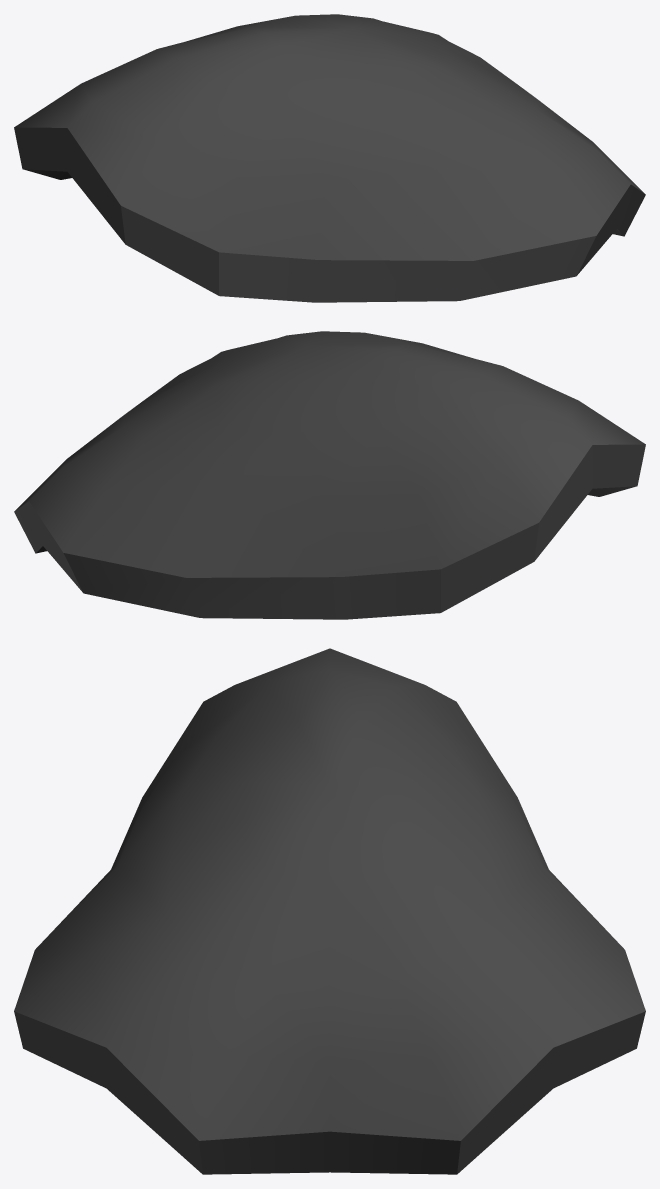
Rendered from SM_House_Roof_Cap_04.obj.
3 renders of one model, top to bottom at view 1: azimuth 30°, elevation 25°; view 2: azimuth 150°, elevation 25°; view 3: azimuth 270°, elevation 25°, orthographic. The views are drawn at different scales.
Visible parts, largest first — view 1: SM_House_Roof_Cap_04_mat_HouseRoof_01; view 2: SM_House_Roof_Cap_04_mat_HouseRoof_01; view 3: SM_House_Roof_Cap_04_mat_HouseRoof_01.
Part boxes in pixels (x1,y1,x2,y2): SM_House_Roof_Cap_04_mat_HouseRoof_01: [14, 14, 645, 302]; SM_House_Roof_Cap_04_mat_HouseRoof_01: [14, 331, 645, 619]; SM_House_Roof_Cap_04_mat_HouseRoof_01: [14, 648, 645, 1174].
Size of the model in its own units: 0.8107 by 0.3736 by 0.7157.
1 material, 1 textured.
